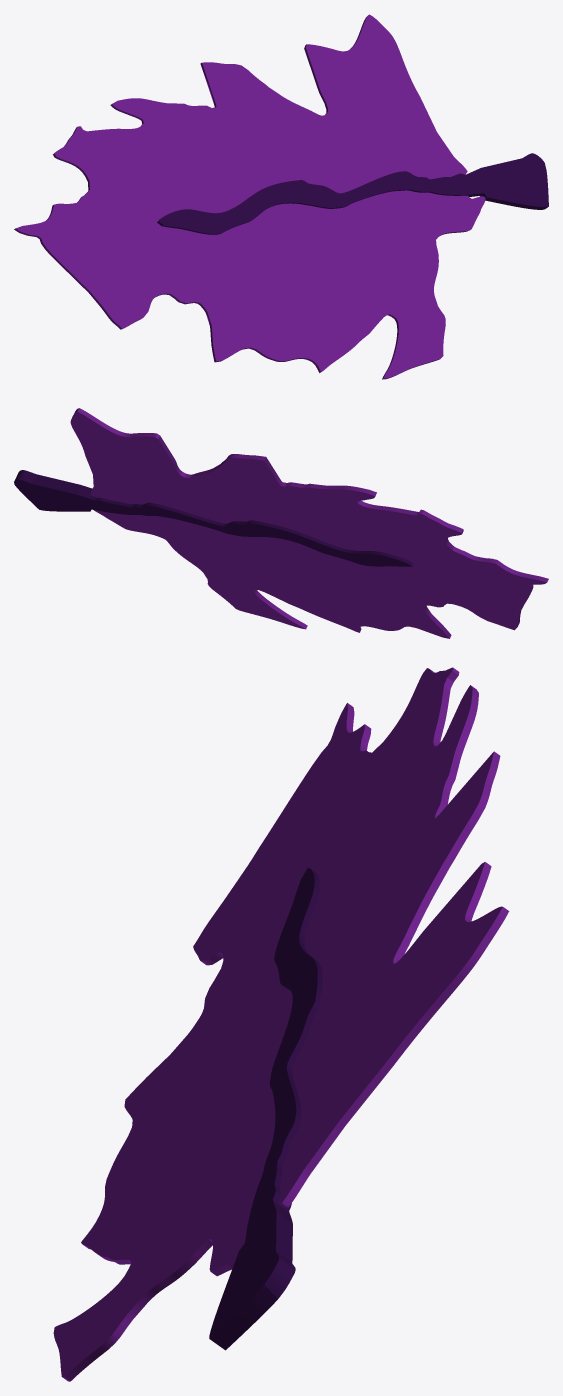
File: Folha da Floresta Sombria.fbx
The picture shows the model from 3 angles, top to bottom: view 1: azimuth 30°, elevation 25°; view 2: azimuth 150°, elevation 25°; view 3: azimuth 270°, elevation 25°; orthographic projection. The views are drawn at different scales.
Visible parts, largest first — view 1: Folha Sombria; view 2: Folha Sombria; view 3: Folha Sombria.
Part boxes in pixels (x1=…): Folha Sombria: x1=14, y1=14, x2=548, y2=379; Folha Sombria: x1=14, y1=408, x2=548, y2=638; Folha Sombria: x1=53, y1=667, x2=509, y2=1381.
Bounding box in the file's own units: 174 × 85.51 × 67.66.
